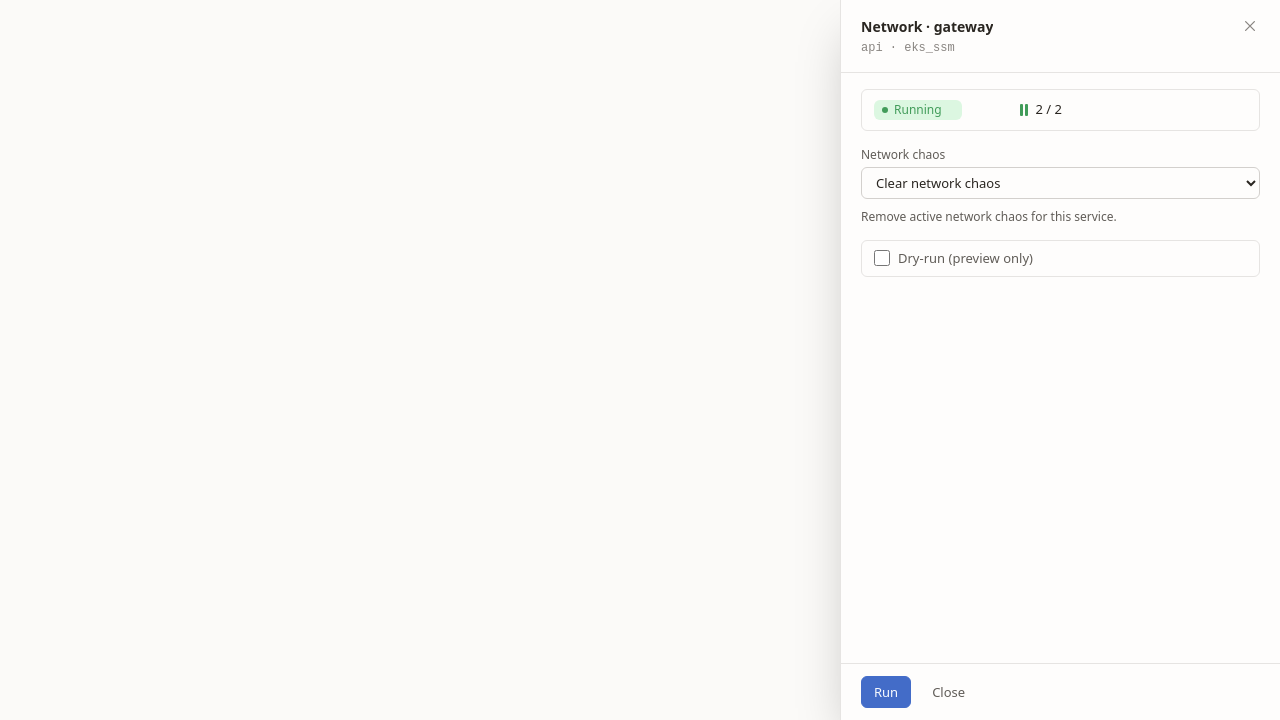
Test case: <ChaosDrawer mode=network/> (eks_ssm) L7 path chaos › cut path dry-run previews the host/path that will be hit (no confirm)
This screenshot has width=1280, height=720.
Select "Cut path" in the dropdown labelled "Network chaos": (1060, 183) [861, 167, 1260, 199]
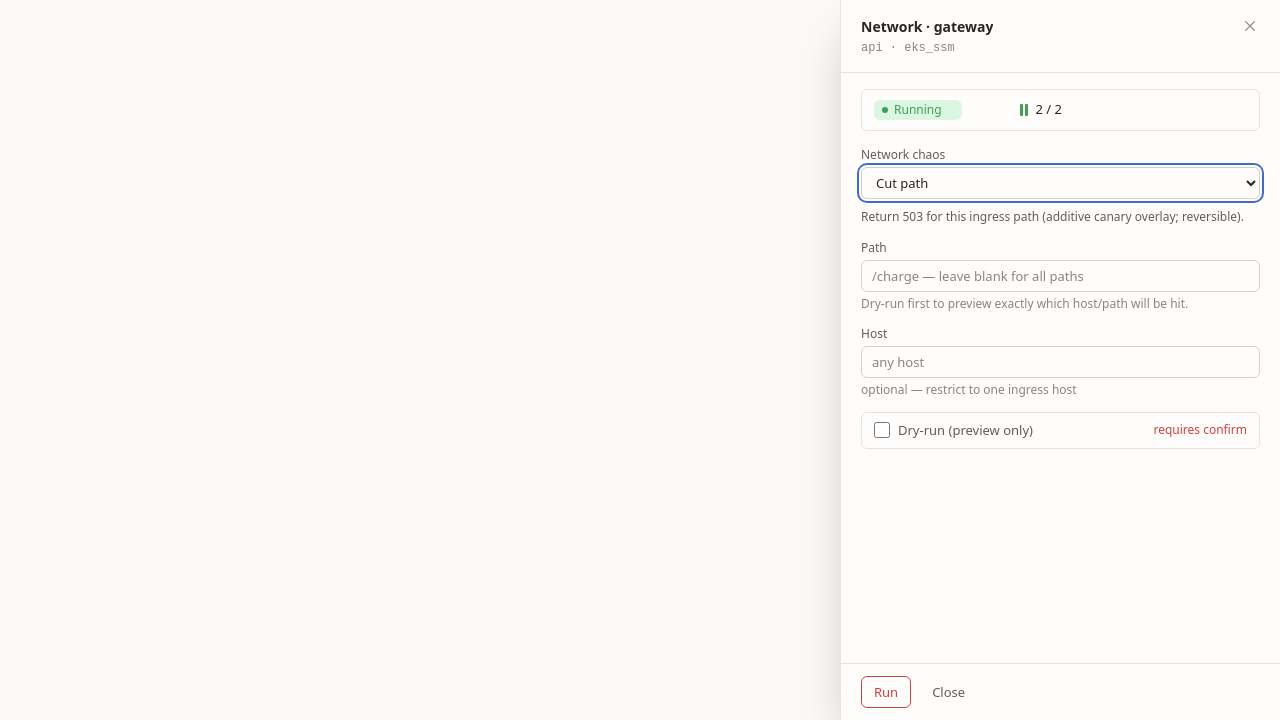
In the field labelled "Path": (1060, 276) [861, 260, 1260, 292], type "/charge"
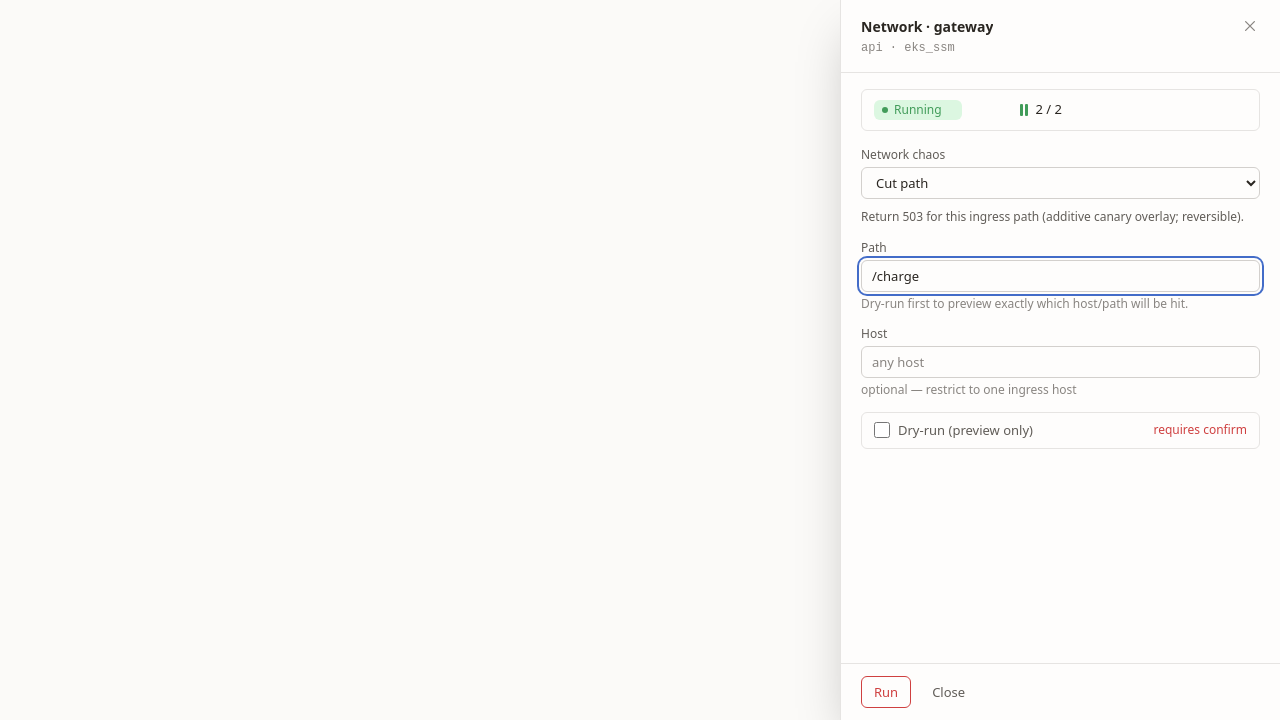
Click the checkbox labelled "Dry-run (preview only)": (882, 430) [874, 422, 890, 438]
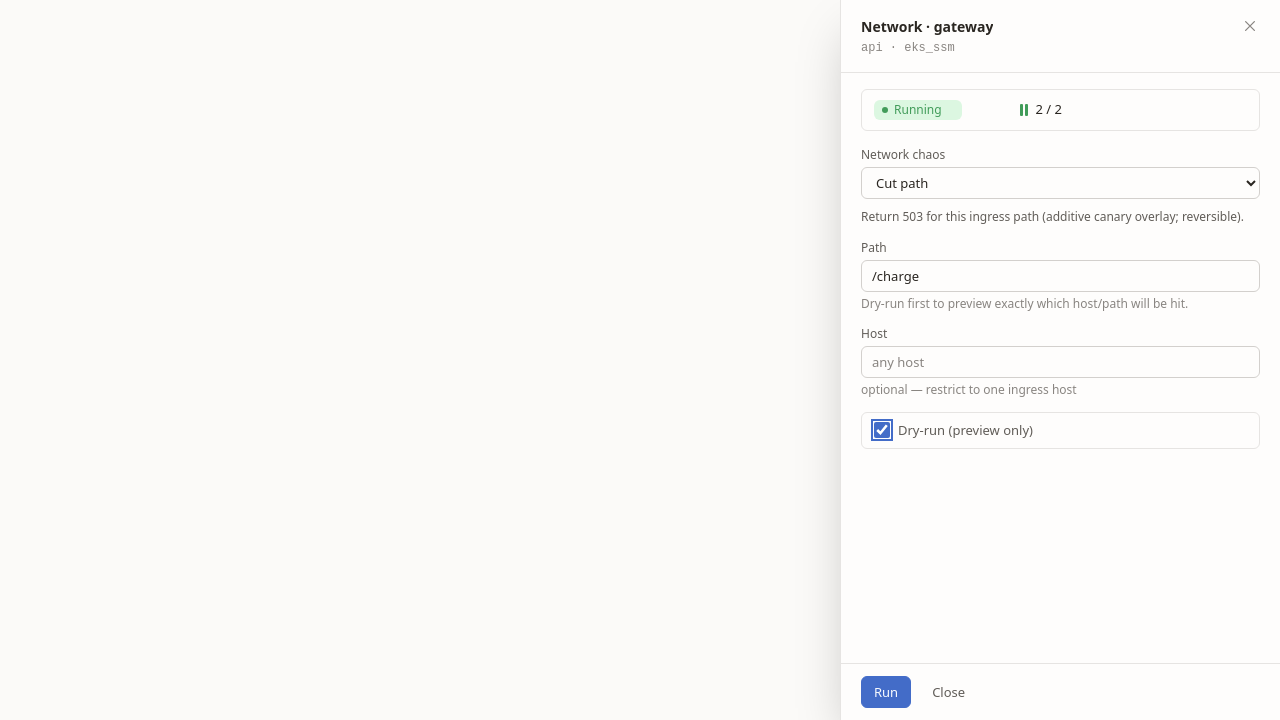
Click the button "Run": (886, 692) [861, 676, 911, 708]
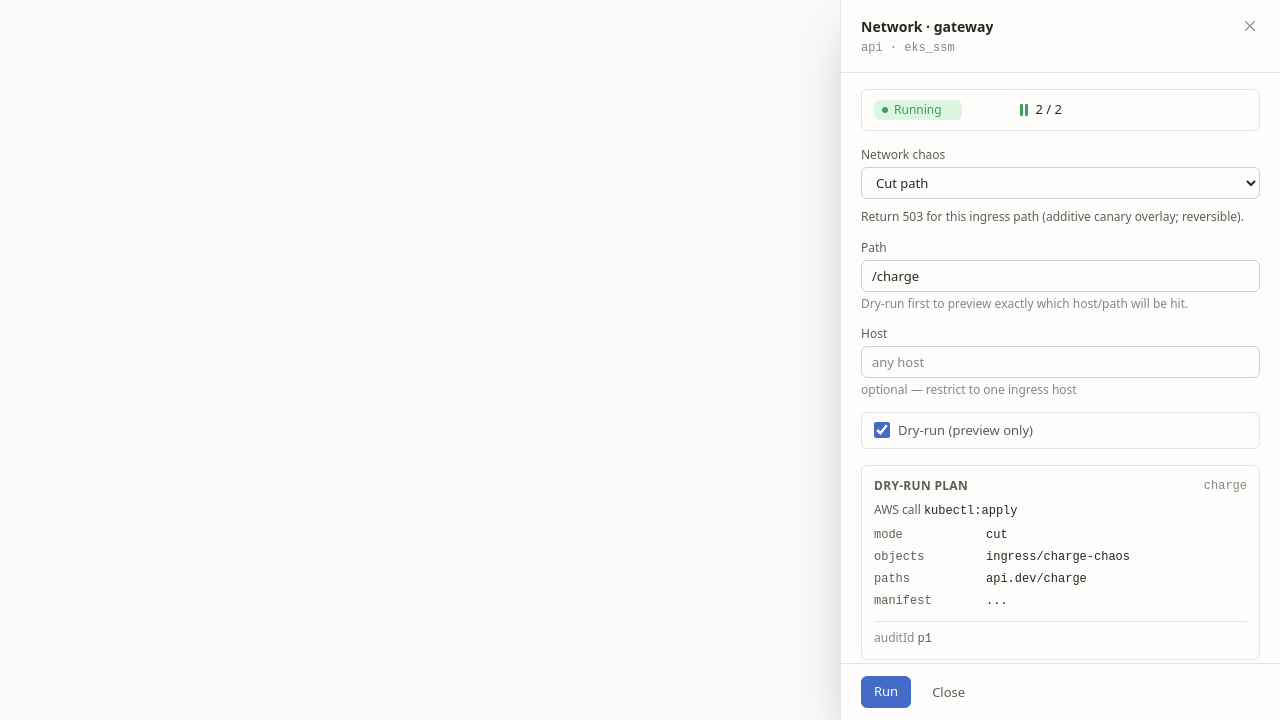
Expected: the list item "api.dev/charge" is shown, [986, 572, 1087, 586]
